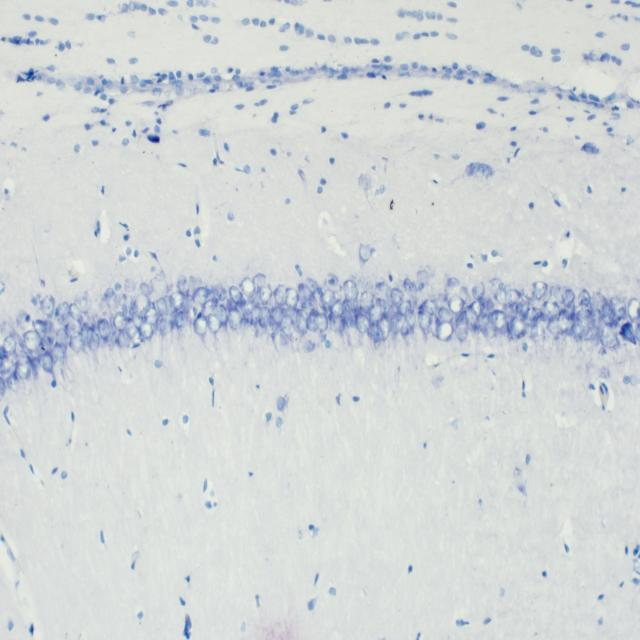neuron: (272, 329, 293, 356), (478, 313, 498, 339), (615, 314, 632, 344), (426, 272, 442, 302), (150, 274, 169, 299), (558, 308, 575, 335), (577, 308, 596, 331), (455, 310, 468, 343), (342, 299, 356, 329), (510, 315, 527, 339), (609, 295, 626, 319), (69, 331, 86, 354), (484, 277, 502, 298), (280, 313, 295, 338), (75, 290, 92, 312), (134, 294, 151, 316), (436, 320, 453, 342), (590, 290, 607, 312), (418, 310, 432, 336), (429, 312, 443, 338), (542, 300, 561, 319), (40, 294, 55, 318), (298, 283, 316, 303), (343, 280, 359, 302), (378, 314, 391, 341), (86, 327, 100, 352), (464, 306, 478, 331), (395, 314, 410, 337), (492, 286, 511, 304), (24, 330, 41, 350), (192, 286, 209, 306), (202, 297, 218, 318), (228, 307, 242, 331), (258, 283, 272, 307), (286, 287, 300, 311), (346, 326, 362, 347), (548, 316, 562, 340), (600, 323, 614, 347), (207, 313, 222, 335), (274, 284, 289, 306), (37, 353, 53, 373), (240, 276, 256, 296), (313, 313, 329, 333), (329, 314, 345, 334), (530, 324, 546, 344), (124, 318, 139, 339), (355, 313, 370, 334), (296, 310, 308, 336), (360, 291, 374, 313), (576, 316, 590, 338), (65, 319, 82, 337), (420, 298, 438, 315), (15, 361, 31, 380), (320, 289, 336, 308), (448, 294, 464, 313), (532, 281, 548, 300), (159, 317, 174, 337), (492, 309, 507, 329), (515, 300, 530, 320), (601, 302, 616, 322), (369, 302, 382, 325), (52, 342, 66, 363), (113, 312, 127, 333), (193, 314, 207, 335), (43, 321, 55, 345), (58, 301, 70, 325), (98, 318, 110, 342), (389, 312, 402, 334), (526, 306, 539, 328), (627, 298, 640, 320), (16, 310, 30, 330), (33, 319, 47, 339), (170, 292, 184, 312), (390, 287, 404, 307), (307, 311, 319, 334), (81, 321, 92, 346), (561, 288, 576, 306), (144, 306, 158, 325), (177, 274, 189, 296), (258, 306, 270, 328), (563, 302, 576, 322), (396, 300, 411, 317), (43, 351, 54, 374), (2, 335, 16, 353), (56, 328, 68, 349), (229, 286, 243, 304), (330, 299, 344, 317), (131, 311, 144, 330), (70, 302, 82, 322), (164, 295, 176, 315), (250, 306, 262, 326), (272, 306, 284, 326), (324, 272, 339, 288), (404, 308, 416, 328), (472, 280, 484, 300), (505, 289, 520, 305), (470, 300, 484, 317), (214, 283, 227, 301), (358, 244, 371, 262), (577, 289, 590, 307), (118, 329, 130, 348), (305, 277, 319, 293), (253, 273, 266, 290), (536, 313, 549, 330), (107, 329, 117, 351), (217, 304, 227, 326), (572, 322, 583, 342), (592, 308, 602, 330), (0, 358, 12, 376), (140, 322, 152, 340), (156, 298, 168, 316), (409, 282, 418, 306), (7, 377, 21, 392), (266, 315, 276, 336), (302, 339, 316, 354), (374, 324, 382, 350), (439, 306, 452, 322), (189, 274, 201, 291), (382, 301, 394, 318), (182, 294, 192, 314), (114, 293, 127, 308), (175, 310, 185, 329), (300, 300, 314, 313), (140, 282, 152, 297), (268, 290, 278, 308), (458, 286, 469, 302), (124, 278, 136, 292), (443, 281, 455, 295), (244, 299, 255, 314), (403, 278, 412, 296), (226, 298, 238, 311), (367, 322, 376, 338), (549, 284, 561, 296), (498, 322, 509, 335), (0, 346, 8, 361), (0, 376, 6, 395), (105, 287, 114, 299), (447, 278, 460, 286), (385, 286, 392, 298)
